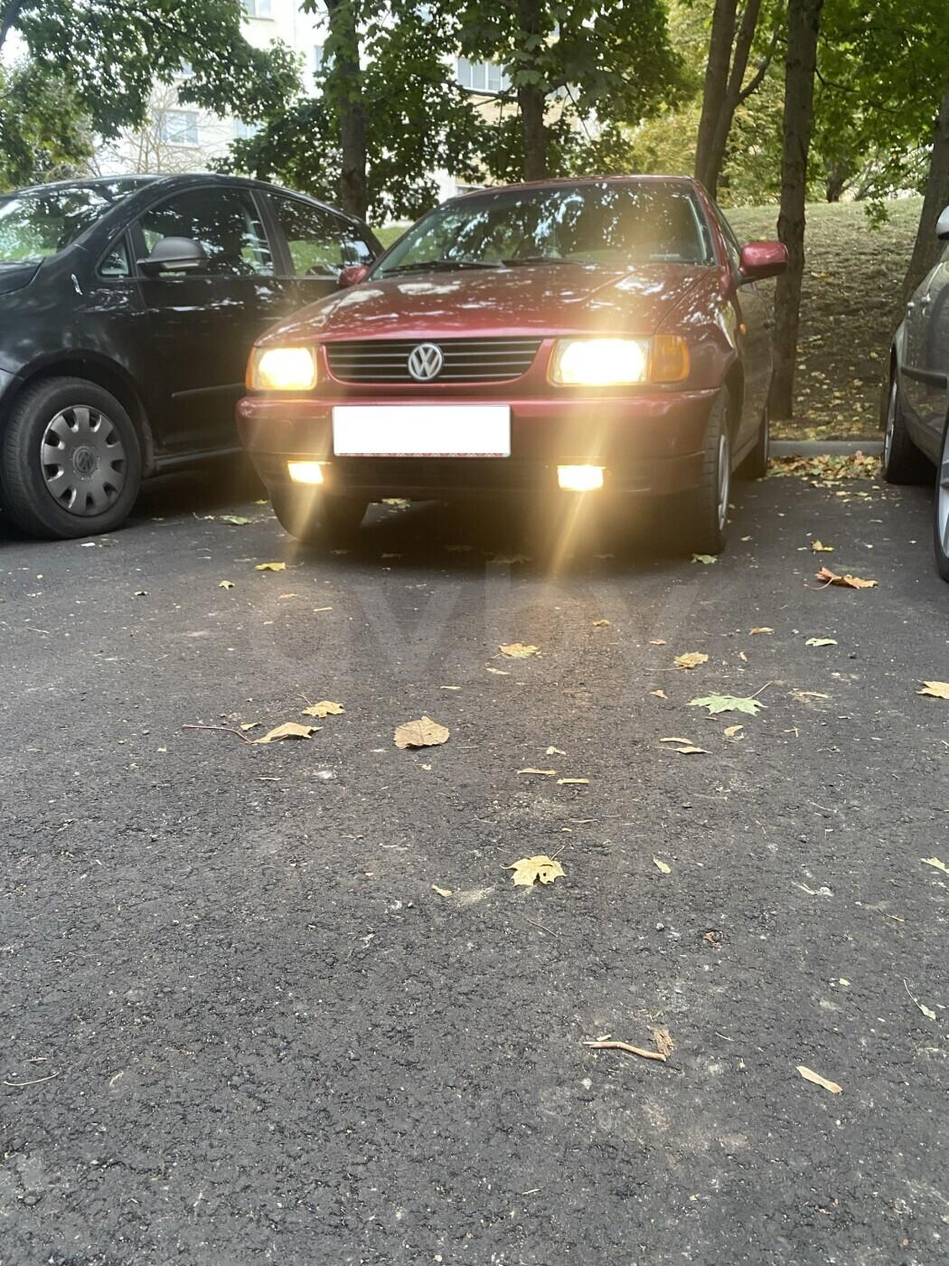Polo_1994-2002: (218, 160, 832, 585)
